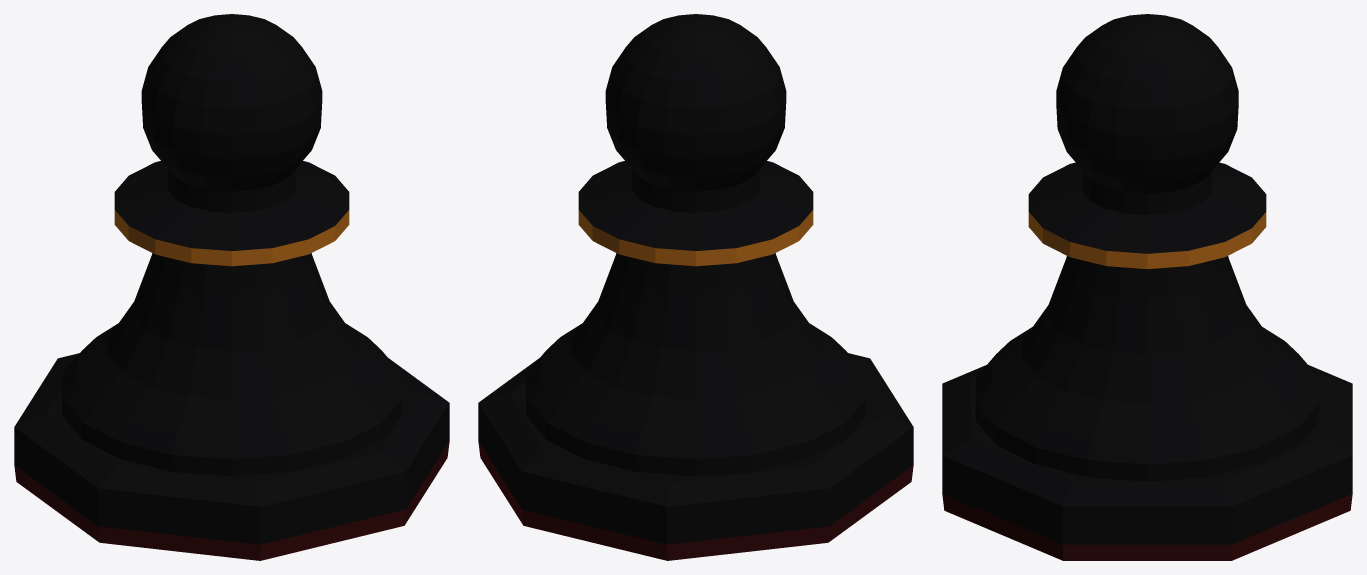
The model's file is cozy_chess_black_pawn.obj.
3 renders of one model, left to right at view 1: azimuth 30°, elevation 25°; view 2: azimuth 150°, elevation 25°; view 3: azimuth 270°, elevation 25°, orthographic.
Parts seen in each view (by area): view 1: Chess_Black_Pawn_Mesh; view 2: Chess_Black_Pawn_Mesh; view 3: Chess_Black_Pawn_Mesh.
Boxes of the visible parts, bbox=[...] form: Chess_Black_Pawn_Mesh: bbox=[14, 14, 449, 560]; Chess_Black_Pawn_Mesh: bbox=[478, 14, 913, 560]; Chess_Black_Pawn_Mesh: bbox=[942, 14, 1352, 560].
Bounding box in the file's own units: 0.0407 × 0.0497 × 0.0407.
